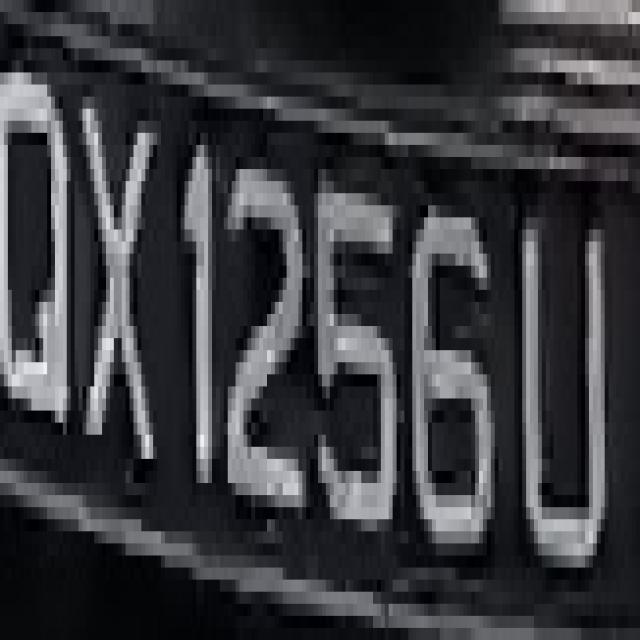1: (188, 48, 224, 520)
2: (232, 133, 310, 567)
5: (310, 169, 404, 556)
6: (404, 157, 502, 580)
Q: (0, 49, 75, 532)
U: (518, 169, 616, 592)
X: (71, 85, 165, 483)
